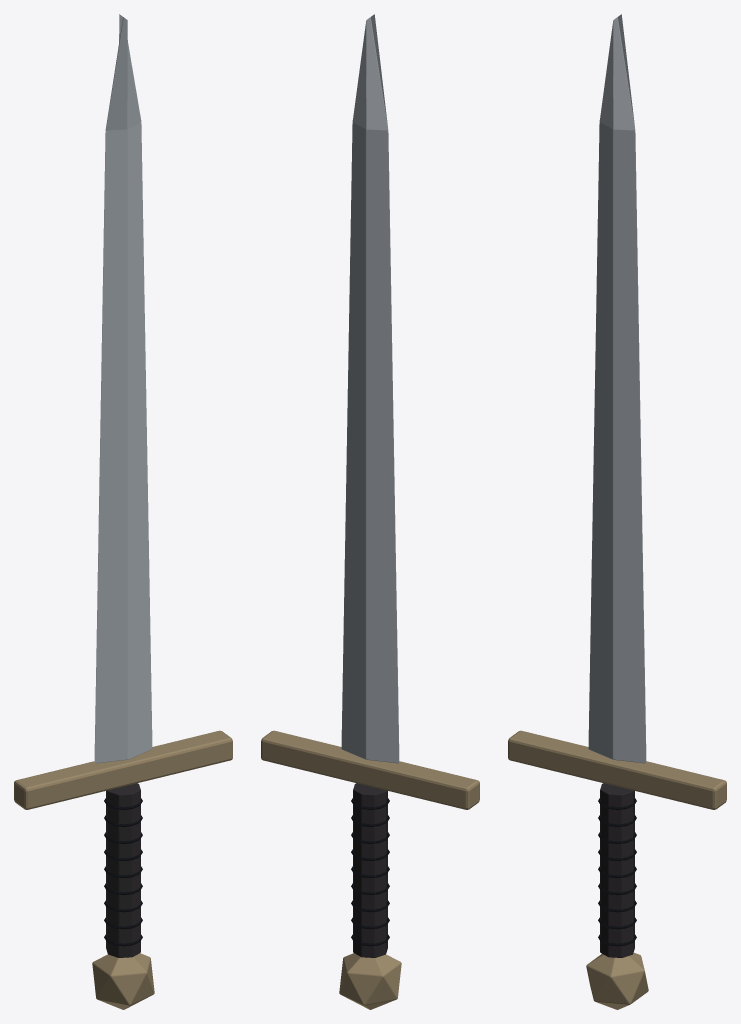
The model's file is LeanKnight_Longsword01.fbx.
The picture shows the model from 3 angles, left to right: view 1: azimuth 30°, elevation 25°; view 2: azimuth 150°, elevation 25°; view 3: azimuth 330°, elevation 25°; orthographic projection.
Parts seen in each view (by area): view 1: LeanKnight_Longsword; view 2: LeanKnight_Longsword; view 3: LeanKnight_Longsword.
Part boxes in pixels (<box>): LeanKnight_Longsword: <box>14,14,232,1009</box>; LeanKnight_Longsword: <box>261,14,479,1009</box>; LeanKnight_Longsword: <box>508,14,726,1009</box>.
Bounding box in the file's own units: 32 × 146 × 7.95.
